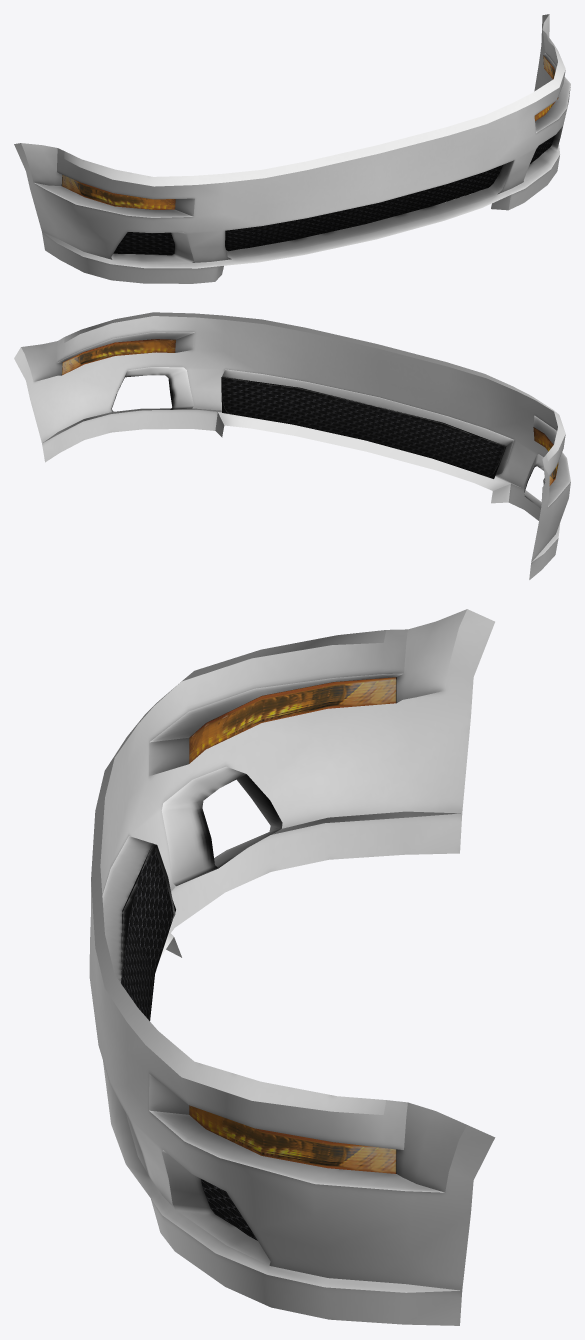
The model's file is Sport_03_Bumper_F_2.fbx.
3 renders of one model, top to bottom at view 1: azimuth 30°, elevation 25°; view 2: azimuth 150°, elevation 25°; view 3: azimuth 270°, elevation 25°, orthographic. The views are drawn at different scales.
Visible parts, largest first — view 1: Sport_03_Bumper_F_2; view 2: Sport_03_Bumper_F_2; view 3: Sport_03_Bumper_F_2.
Boxes of the visible parts, x1,y1,x2,y2 form: Sport_03_Bumper_F_2: (14,14,570,283); Sport_03_Bumper_F_2: (14,312,570,579); Sport_03_Bumper_F_2: (89,609,495,1325).
Bounding box in the file's own units: 198 × 40.18 × 65.73.
